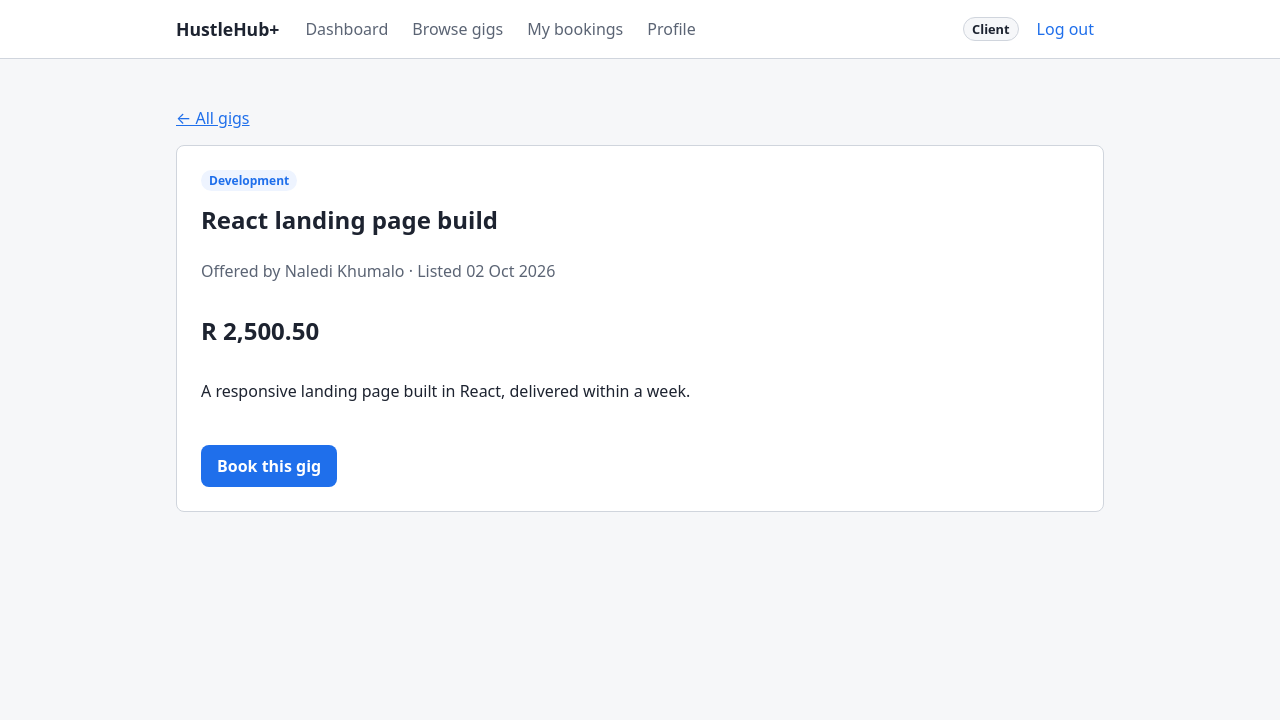
Test: GigDetailPage › shows the rate-limit message when booking too often
Click the button "Book this gig".
click(269, 466)  # box [201,445,337,487]
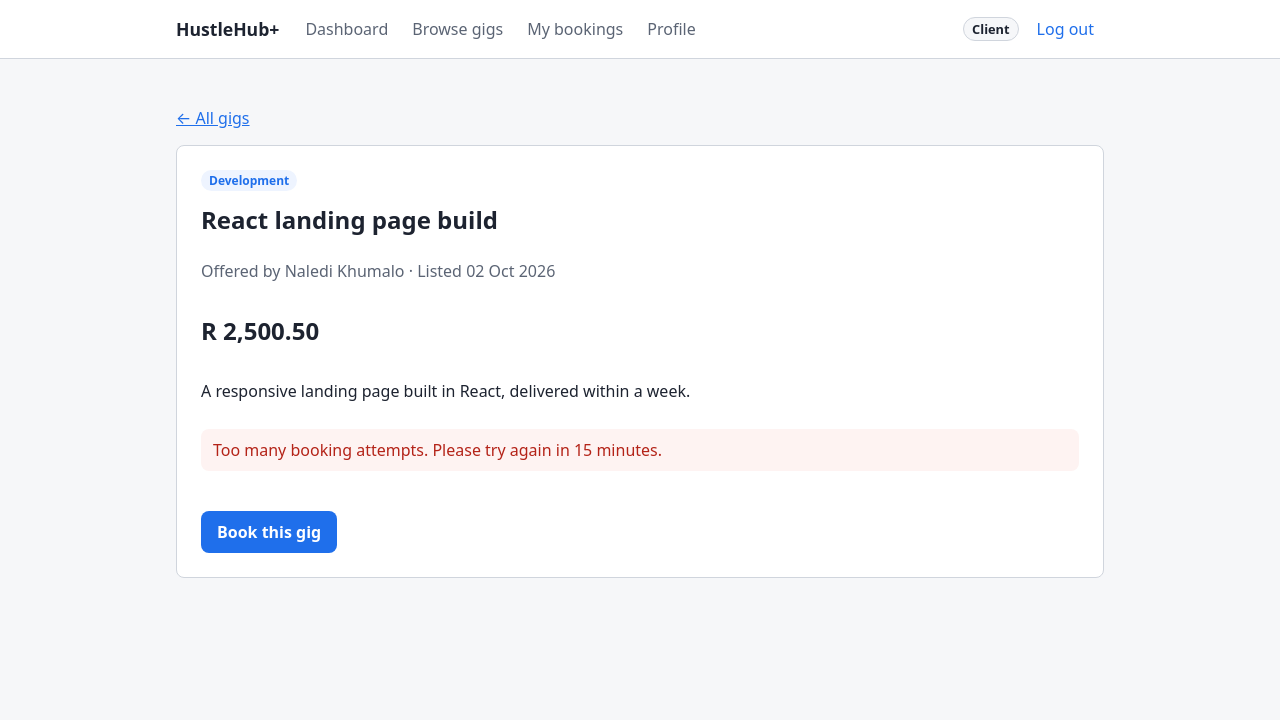
Check: the message reads "Too many booking attempts. Please try again in 15 minutes.", box [213,439,662,461]
